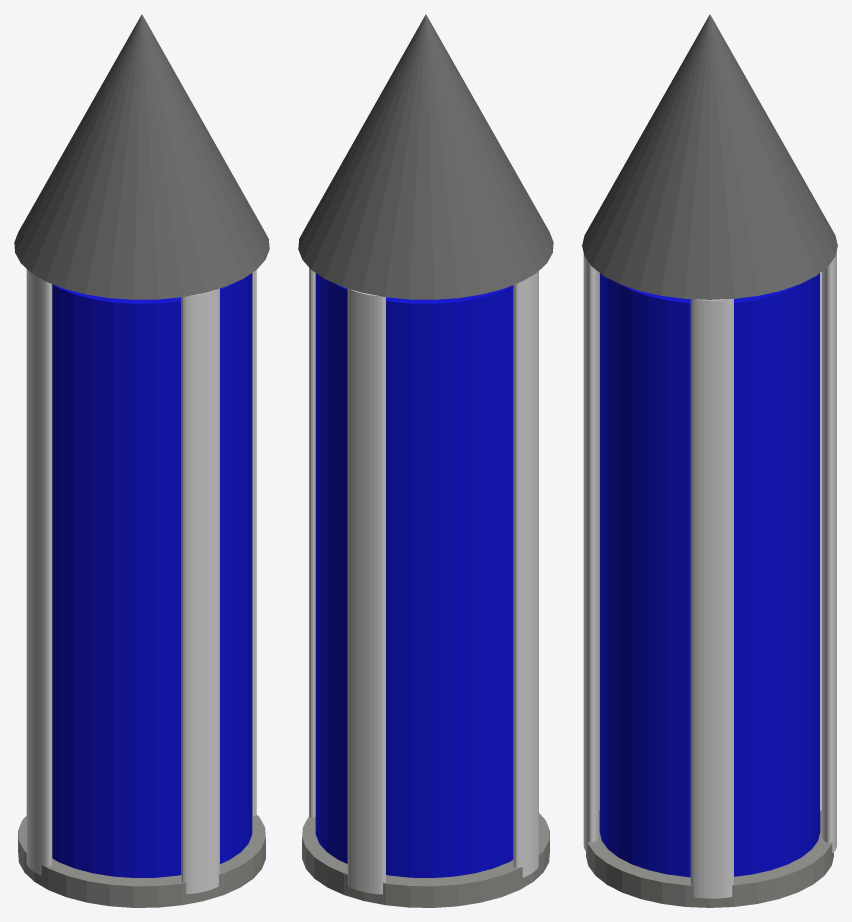
Rendered from specimen1Substance.dae.
The picture shows the model from 3 angles, left to right: view 1: azimuth 30°, elevation 25°; view 2: azimuth 150°, elevation 25°; view 3: azimuth 270°, elevation 25°; orthographic projection.
Visible parts, largest first — view 1: Cylinder.005, Cone, Cylinder.002, Cylinder, Cylinder.004, Cylinder.001; view 2: Cylinder.005, Cone, Cylinder.003, Cylinder, Cylinder.004, Cylinder.001; view 3: Cylinder.005, Cone, Cylinder.001, Cylinder.002, Cylinder.003, Cylinder.004.
Part boxes in pixels (left/top/right/bottom): Cylinder.005: left=52, top=273, right=252, bottom=877; Cone: left=14, top=14, right=269, bottom=299; Cylinder.002: left=181, top=288, right=219, bottom=893; Cylinder: left=26, top=269, right=52, bottom=875; Cylinder.004: left=18, top=814, right=265, bottom=907; Cylinder.001: left=252, top=270, right=256, bottom=815; Cylinder.005: left=315, top=273, right=513, bottom=877; Cone: left=298, top=14, right=553, bottom=299; Cylinder.003: left=347, top=288, right=385, bottom=894; Cylinder: left=513, top=271, right=538, bottom=877; Cylinder.004: left=302, top=813, right=549, bottom=907; Cylinder.001: left=309, top=267, right=315, bottom=817; Cylinder.005: left=599, top=273, right=820, bottom=877; Cone: left=582, top=14, right=837, bottom=299; Cylinder.001: left=690, top=299, right=733, bottom=898; Cylinder.002: left=583, top=253, right=599, bottom=852; Cylinder.003: left=821, top=251, right=836, bottom=852; Cylinder.004: left=586, top=810, right=833, bottom=907.
Bounding box in the file's own units: 0.0443 × 0.0443 × 0.1608.
